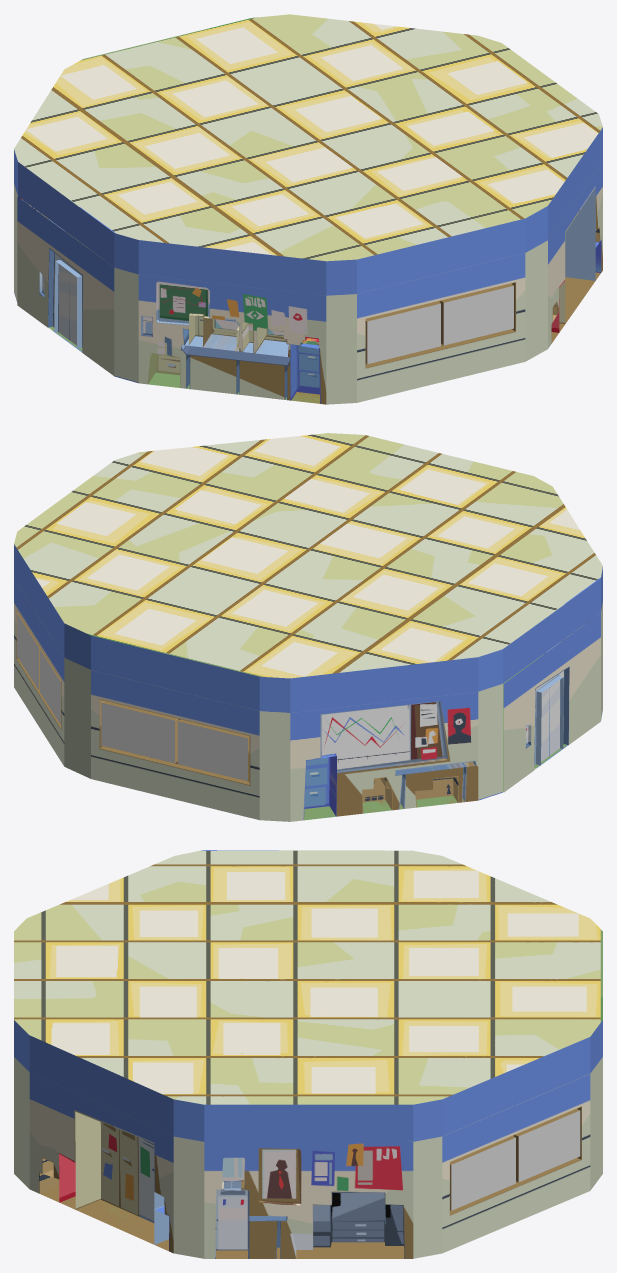
File: office wall 1.fbx
3 renders of one model, top to bottom at view 1: azimuth 30°, elevation 25°; view 2: azimuth 150°, elevation 25°; view 3: azimuth 270°, elevation 25°, orthographic. The views are drawn at different scales.
Parts seen in each view (by area): view 1: Cube, office wall 1, office wall 5.002, office wall 6, office wall 4; view 2: Cube, office wall 3, office wall 5.001, office wall 6, office wall 5; view 3: Cube, office wall 2, office wall 5, office wall 4.
Part boxes in pixels (<box>): Cube: <box>14,14,602,404</box>; office wall 1: <box>138,274,326,404</box>; office wall 5.002: <box>357,253,525,402</box>; office wall 6: <box>17,197,114,375</box>; office wall 4: <box>548,162,602,348</box>; Cube: <box>14,433,602,821</box>; office wall 3: <box>290,691,478,821</box>; office wall 5.001: <box>91,670,259,819</box>; office wall 6: <box>503,613,600,792</box>; office wall 5: <box>14,579,64,765</box>; Cube: <box>14,850,602,1258</box>; office wall 2: <box>204,1142,413,1258</box>; office wall 5: <box>442,1074,590,1253</box>; office wall 4: <box>29,1072,173,1253</box>.
Bounding box in the file's own units: 467 × 456 × 132.
13 materials, 7 textured.
